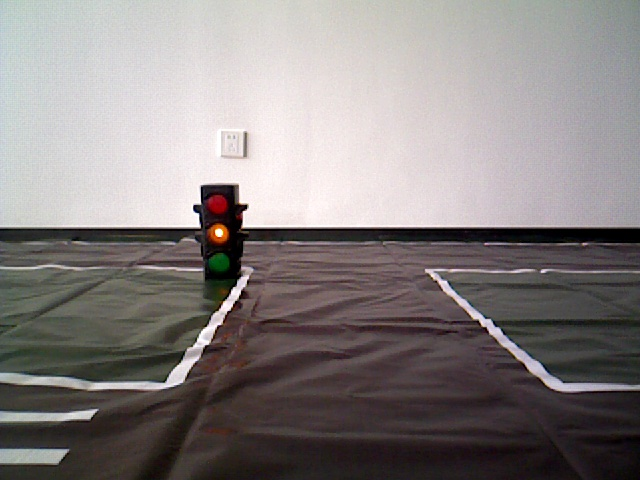yellow: (196, 183, 244, 280)
